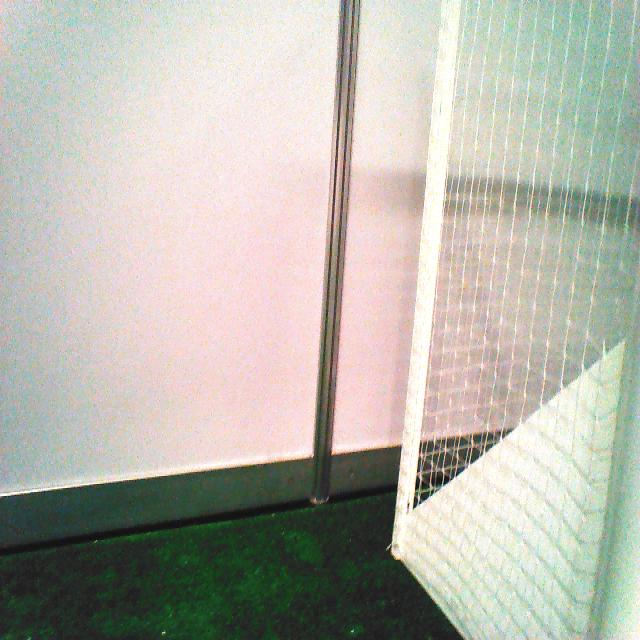goalpost: (594, 293, 637, 636)
